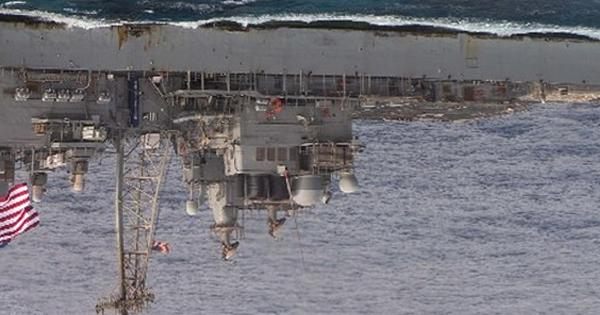rust: (206, 24, 486, 57), (526, 30, 600, 52), (115, 25, 166, 55), (3, 21, 70, 39)
